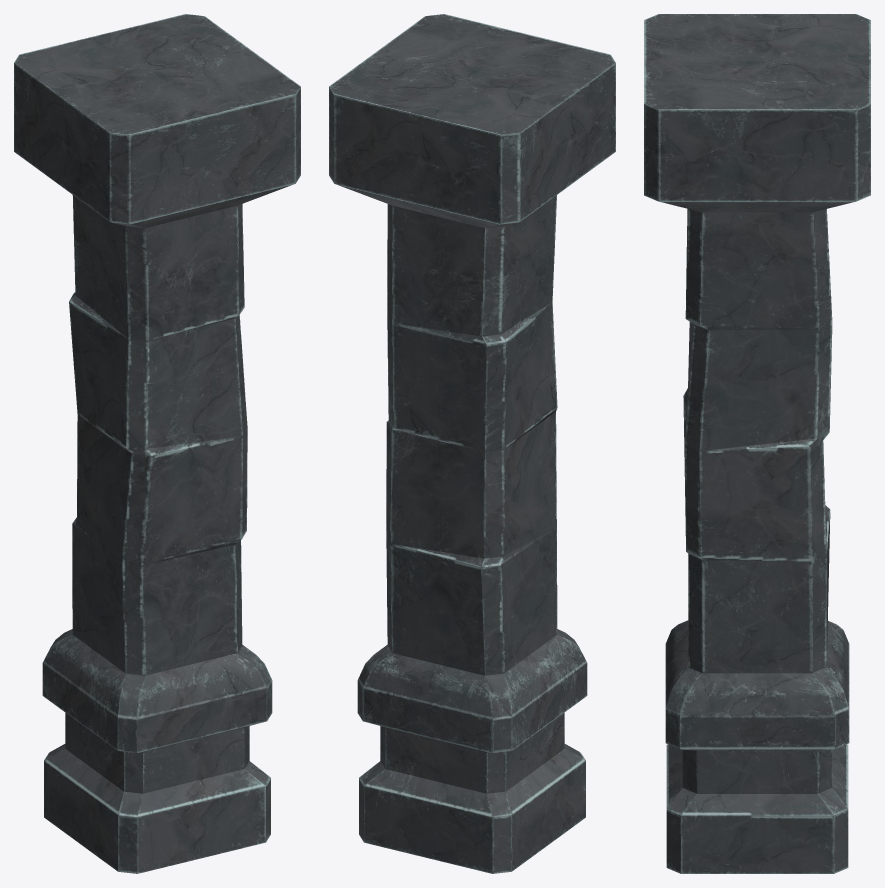
File: _Pillar1.fbx
The picture shows the model from 3 angles, left to right: view 1: azimuth 30°, elevation 25°; view 2: azimuth 150°, elevation 25°; view 3: azimuth 270°, elevation 25°; orthographic projection. The views are drawn at different scales.
Visible parts, largest first — view 1: pCube3; view 2: pCube3; view 3: pCube3.
Boxes of the visible parts, x1,y1,x2,y2 form: pCube3: (14, 14, 300, 873); pCube3: (329, 14, 615, 873); pCube3: (644, 14, 870, 873).
Size of the model in its own units: 0.9644 by 3.63 by 0.9644.
